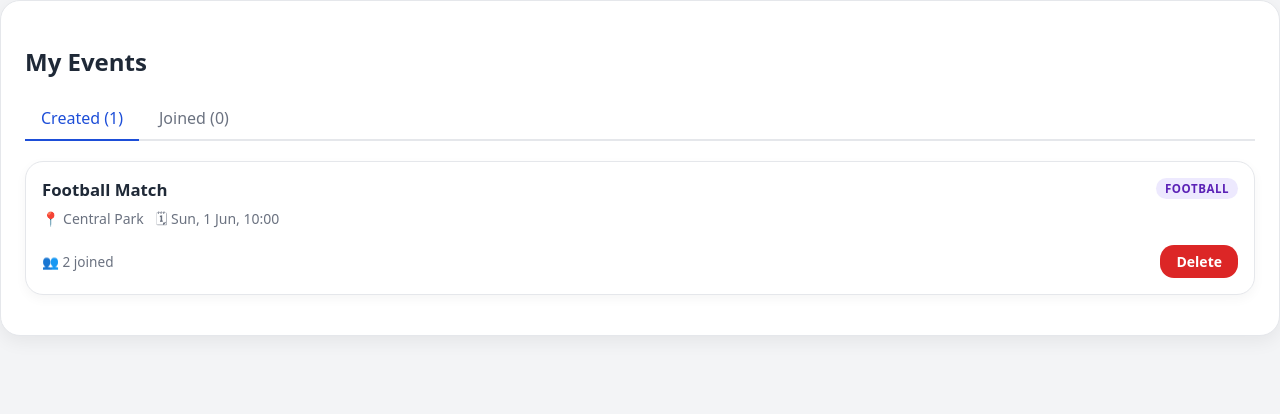
MyEventsPage › shows error when deleteEvent fails
Click the button "Delete" at coordinates (1199, 262), box left=1160, top=245, right=1238, bottom=278
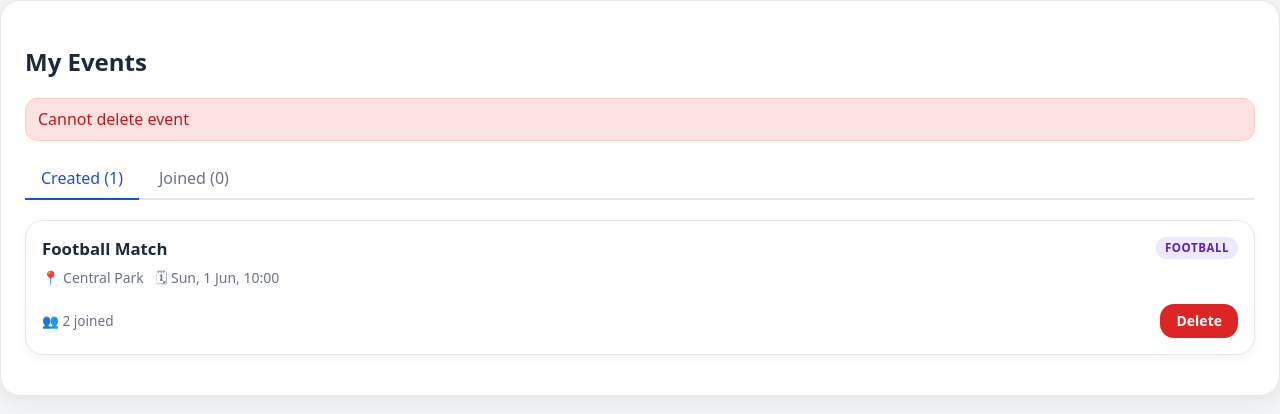
Now the text "Cannot delete event" is shown, box left=25, top=98, right=1255, bottom=141
